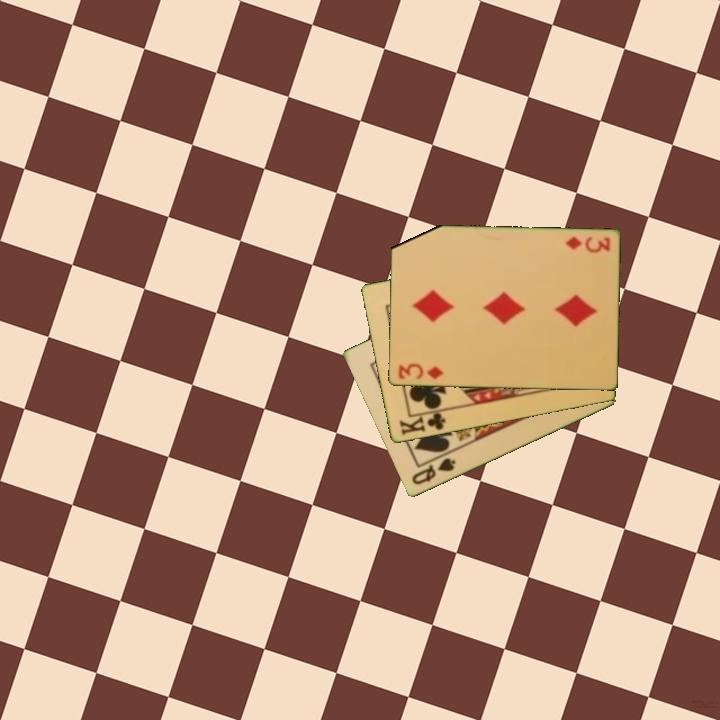3d: (394, 360, 446, 383), (562, 233, 613, 255)
Kc: (396, 407, 448, 438)
Qs: (408, 454, 459, 488)
